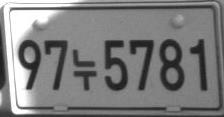1: (188, 37, 214, 91)
5: (102, 39, 128, 91)
7: (129, 38, 154, 90), (43, 39, 68, 90)
8: (157, 37, 185, 91)
9: (17, 38, 41, 90)
누: (70, 48, 97, 91)
